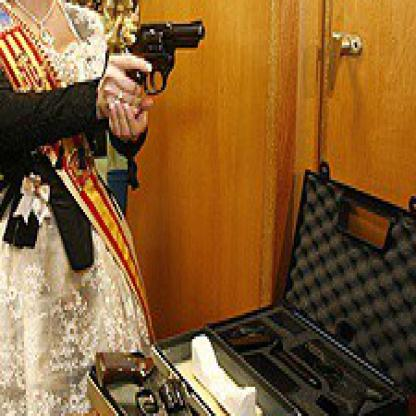gun: (83, 340, 218, 414), (114, 8, 212, 106)
